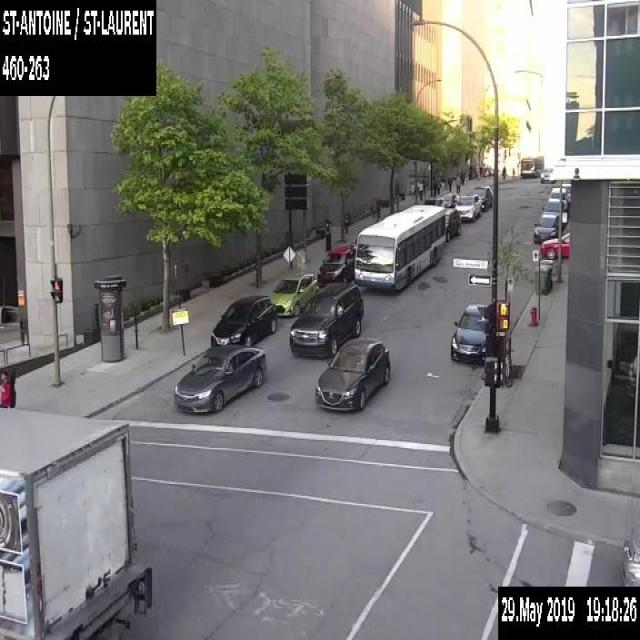bus: (353, 204, 445, 290), (519, 154, 543, 177)
construction: (283, 245, 295, 270)
pedestrian: (0, 369, 15, 407), (416, 177, 423, 200), (343, 208, 349, 234), (454, 175, 461, 193), (370, 195, 376, 216), (501, 163, 506, 180), (376, 196, 380, 217), (436, 178, 441, 194), (447, 175, 452, 191), (432, 178, 436, 196), (511, 165, 515, 176)
vehicle: (0, 406, 151, 638), (173, 343, 266, 412), (288, 281, 364, 358), (314, 336, 390, 411), (210, 294, 277, 348), (449, 301, 489, 364), (270, 271, 318, 316), (316, 245, 355, 286), (616, 535, 639, 584), (453, 192, 481, 221), (532, 213, 559, 243), (540, 232, 569, 257), (541, 199, 566, 226), (470, 184, 492, 210), (445, 207, 460, 241), (546, 186, 567, 208), (540, 166, 555, 182), (441, 192, 458, 206), (423, 196, 443, 205), (561, 182, 570, 201), (0, 519, 2, 544), (0, 634, 2, 638)
